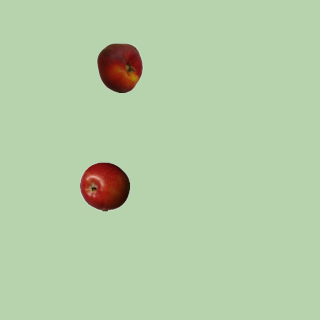Apple Braeburn: (79, 161, 129, 211)
Nectarine Flat: (94, 42, 144, 92)
